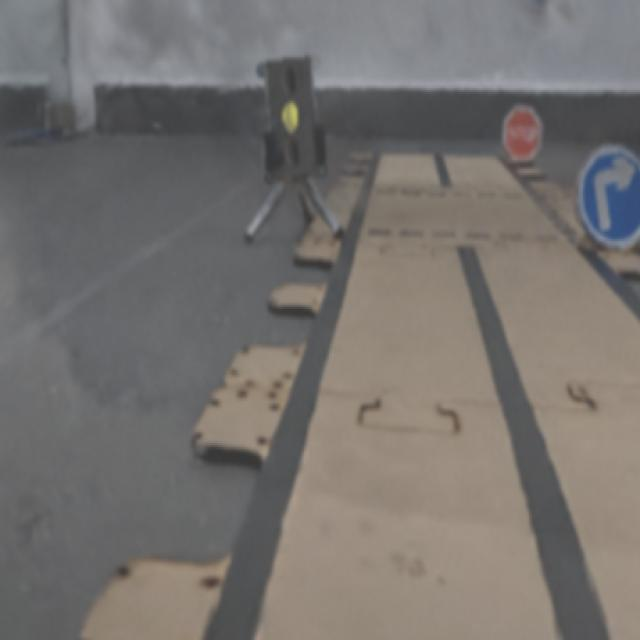RIGHT: (578, 145, 639, 248)
STOP: (503, 105, 543, 160)
